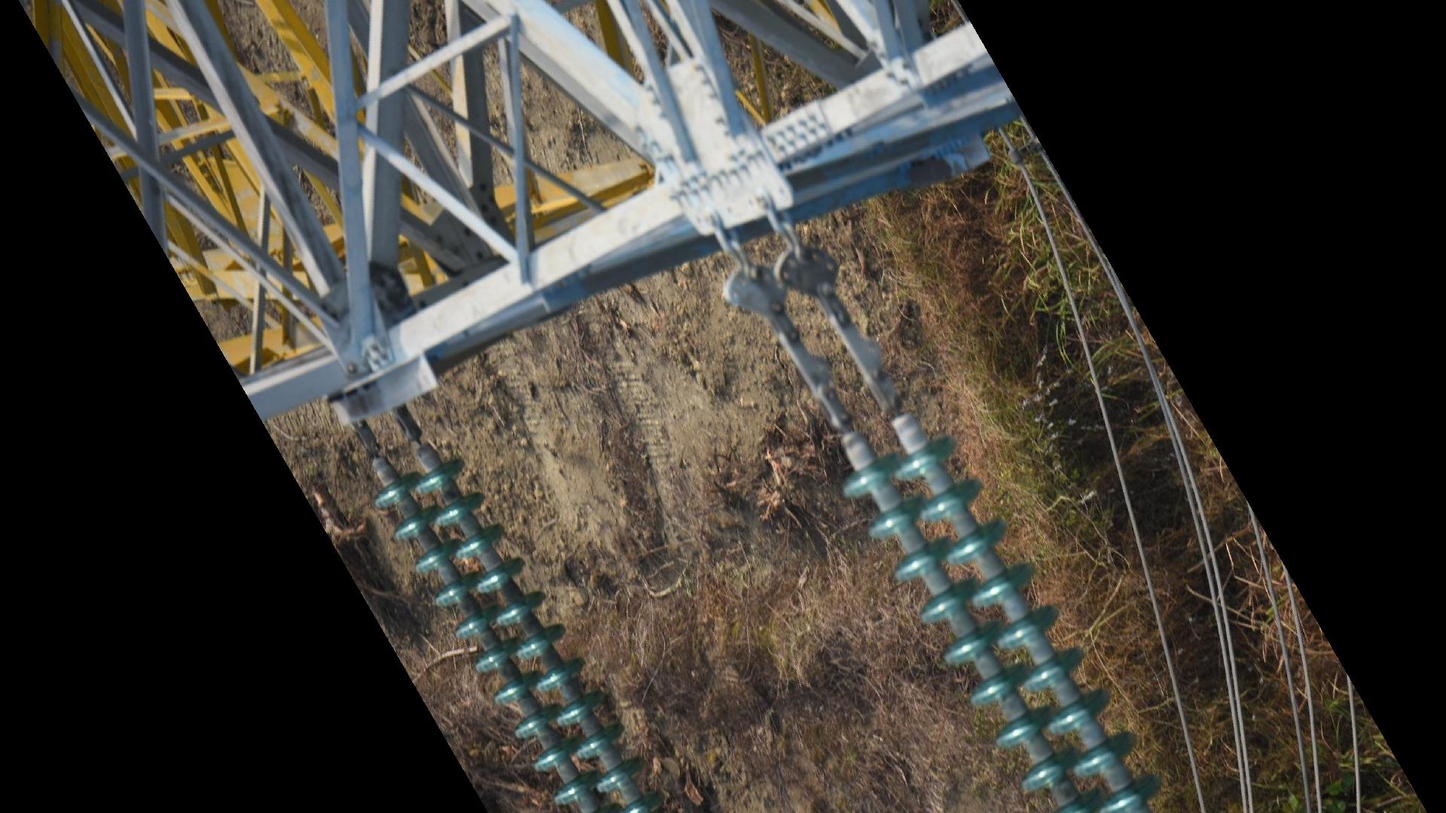insulator: (836, 432, 1169, 813), (373, 453, 669, 813)
